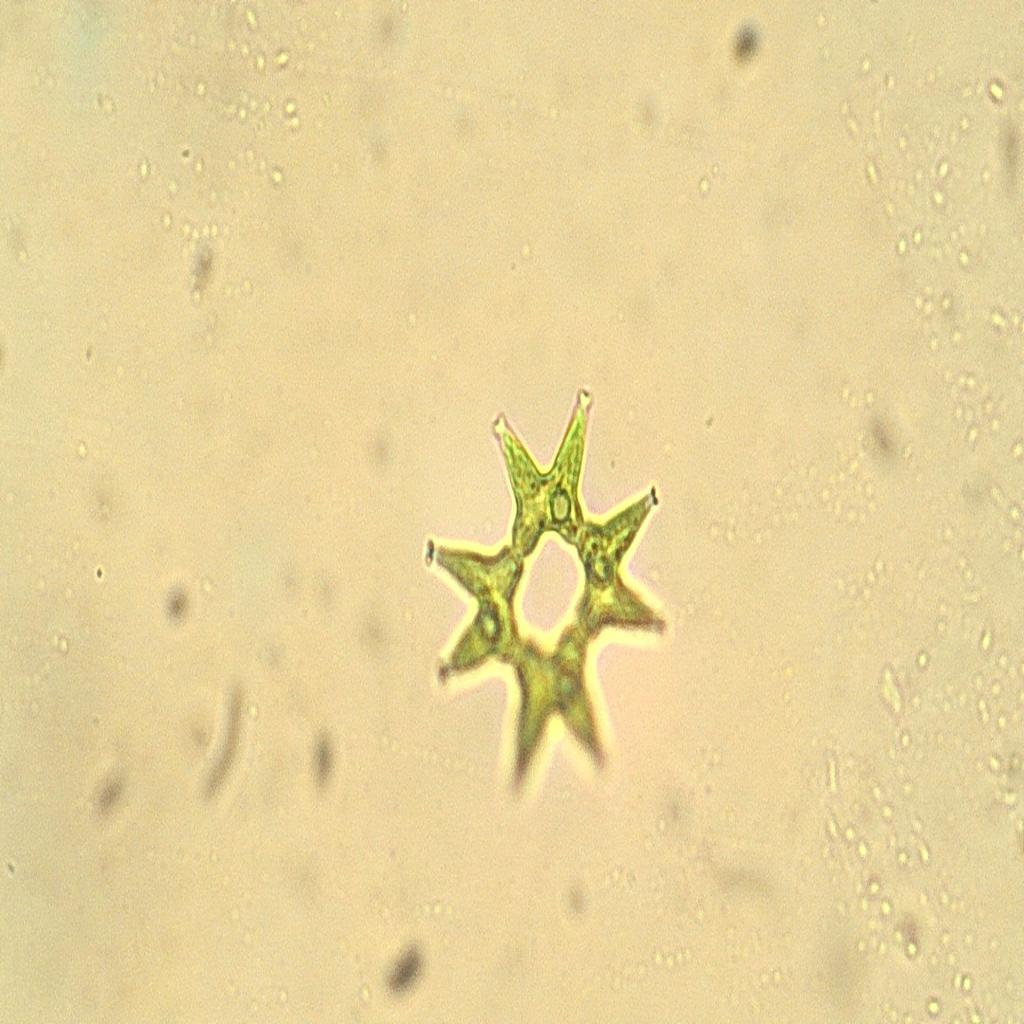Pediastrum_75O: (402, 373, 691, 815)
